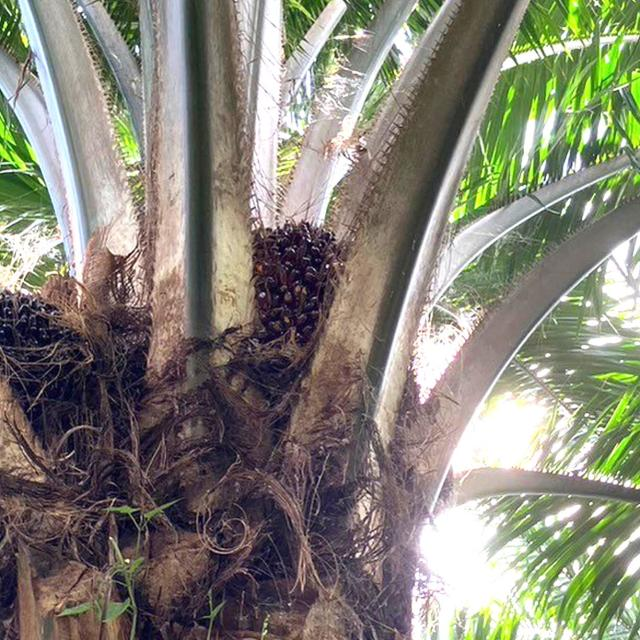almost: (240, 212, 352, 366)
